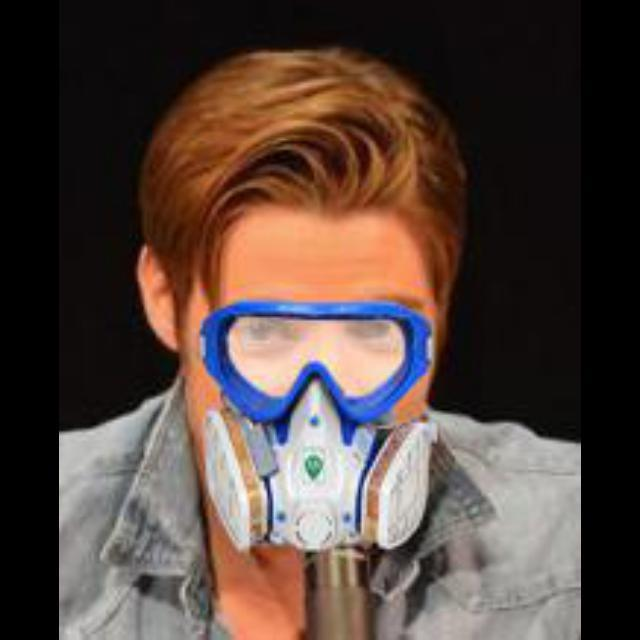suspicion: (154, 80, 466, 542)
